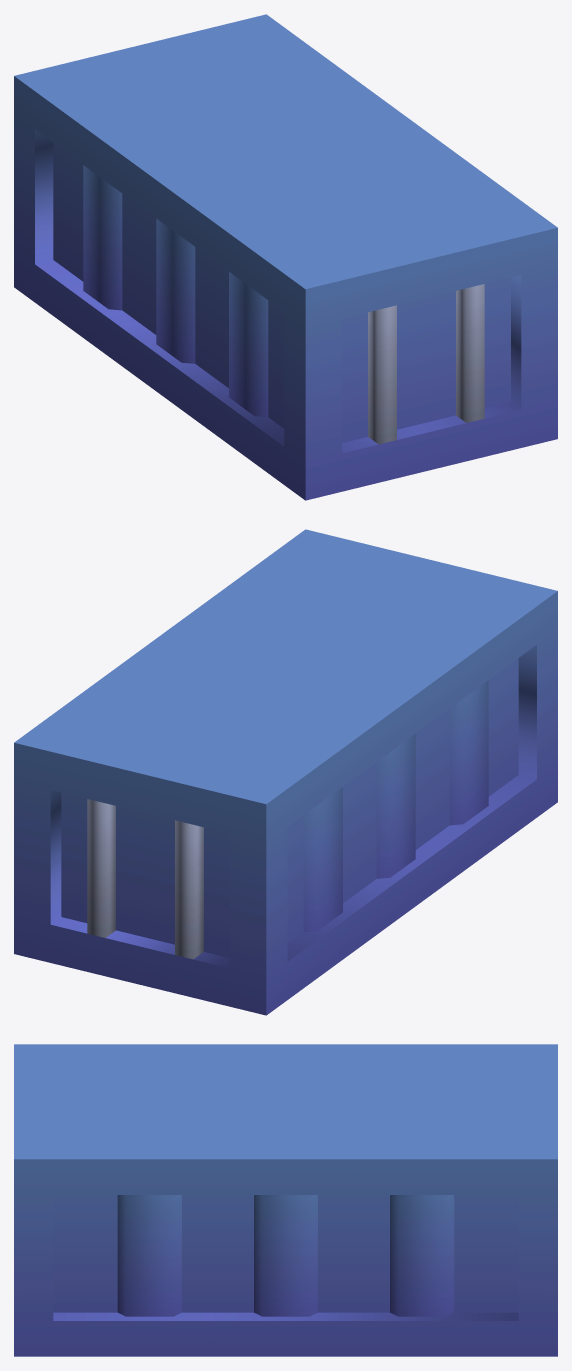
Rendered from cargo-container-b.glb.
3 views of the same model, one above another, from view 1: azimuth 30°, elevation 25°; view 2: azimuth 150°, elevation 25°; view 3: azimuth 270°, elevation 25° (orthographic). The views are drawn at different scales.
Visible parts, largest first — view 1: cargo-container-b; view 2: cargo-container-b; view 3: cargo-container-b.
Part boxes in pixels (box(x1,y1,x2,y2)): cargo-container-b: box(14, 14, 557, 500); cargo-container-b: box(14, 529, 557, 1015); cargo-container-b: box(14, 1044, 557, 1356).
Bounding box in the file's own units: 1.38 × 1.1 × 2.76.
1 material, 1 textured.
